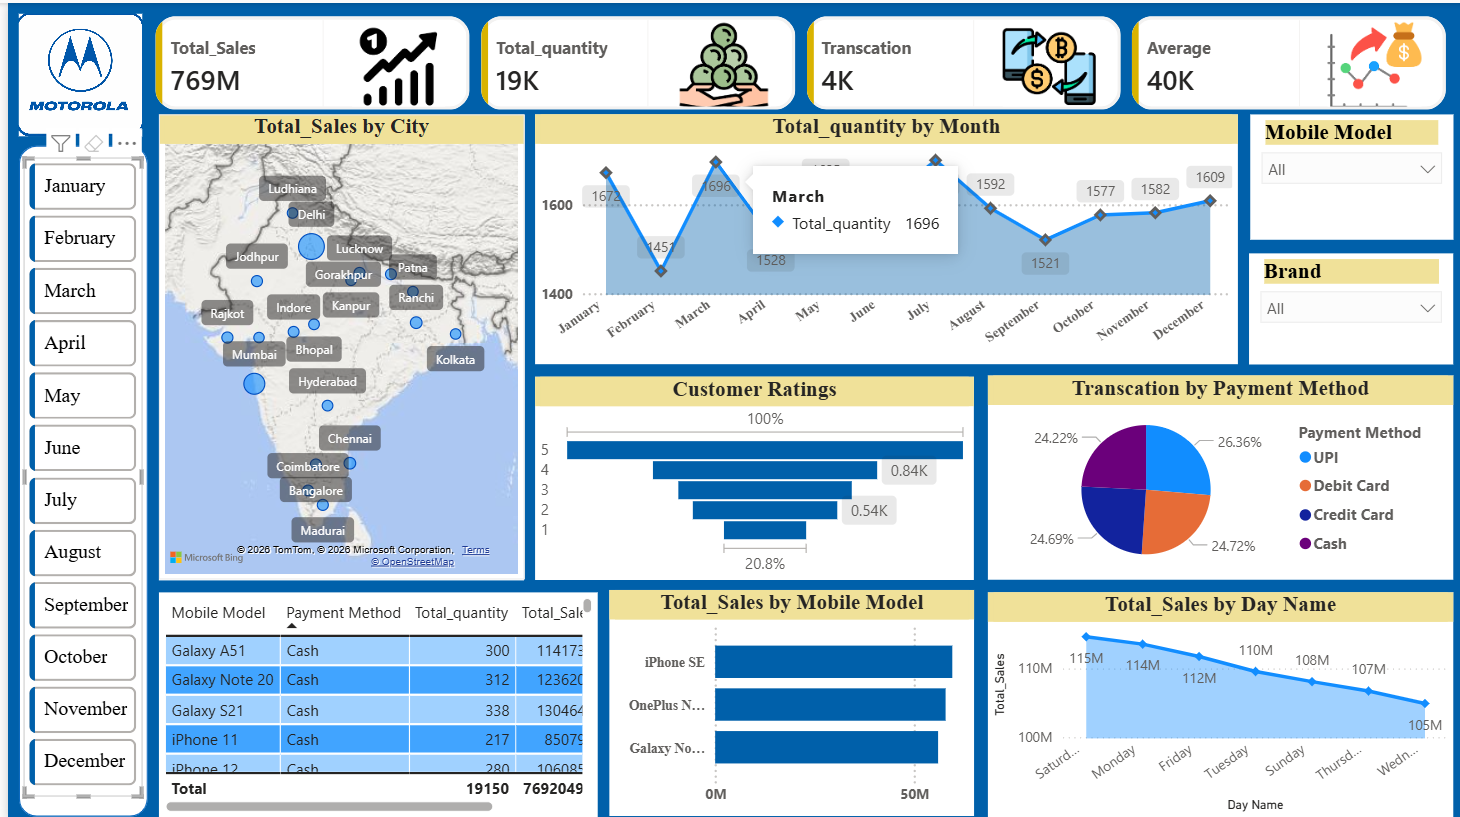

Layout of this report page (visuals, bound fields, positions):
{"tool":"powerbi","page":{"name":"Page 1","canvas":[1280,720],"ordinal":0},"visuals":[{"type":"shape","box":[9.7,125.5,113.4,589.9],"z":0},{"type":"advancedSlicerVisual","fields":{"Values":["sales_data.Date.Variation.Date Hierarchy.Month"]},"box":[13.3,136.3,105,562.2],"z":1000},{"type":"image","box":[9.7,9.7,108.6,107.4],"z":2000},{"type":"cardVisual","fields":{"Data":["sales_data.Total_Sales","sales_data.Total_quantity","sales_data.Transcation","sales_data.Average"]},"box":[118.2,0,1161.8,106.2],"z":3000},{"type":"map","fields":{"Category":["sales_data.City"],"Size":["sales_data.Total_Sales"]},"box":[132.7,97.7,320.9,409],"z":4000},{"type":"lineChart","fields":{"Y":["sales_data.Total_quantity"],"Category":["sales_data.Date.Variation.Date Hierarchy.Month","sales_data.Date.Variation.Date Hierarchy.Day"]},"box":[463.3,97.7,617.7,219.6],"z":5000},{"type":"barChart","fields":{"Category":["sales_data.Mobile Model"],"Y":["sales_data.Total_Sales"]},"box":[528.4,516.4,320.9,199.1],"z":6000},{"type":"pieChart","fields":{"Category":["sales_data.Payment Method"],"Y":["sales_data.Transcation"]},"box":[861.4,326.9,409,179.8],"z":7000},{"type":"funnel","title":" Customer Ratings","fields":{"Category":["sales_data.Customer Ratings"],"Y":["CountNonNull(sales_data.Customer Ratings)"]},"box":[463.3,328.2,386.1,178.6],"z":8000},{"type":"areaChart","fields":{"Category":["sales_data.Day Name"],"Y":["sales_data.Total_Sales"]},"box":[861.4,517.6,409,197.9],"z":9000},{"type":"tableEx","fields":{"Values":["sales_data.Mobile Model","sales_data.Payment Method","sales_data.Total_quantity","sales_data.Total_Sales","sales_data.Transcation"]},"box":[132.7,517.6,386.1,197.9],"z":10000},{"type":"slicer","fields":{"Values":["sales_data.Mobile Model"]},"box":[1091.8,97.7,178.6,109.8],"z":11000},{"type":"slicer","fields":{"Values":["sales_data.Brand"]},"box":[1090.6,219.6,179.8,97.7],"z":12000}]}

Visuals, with their boxes in screenshot pixels (x1, y1, x2, y2), scaled from the page's 1280x720 canvas onto the 1460x817 screenshot:
shape: bbox=(11, 142, 140, 812)
advancedSlicerVisual - sales_data.Date.Variation.Date Hierarchy.Month: bbox=(15, 155, 135, 793)
image: bbox=(11, 11, 135, 133)
cardVisual - sales_data.Total_Sales x sales_data.Total_quantity: bbox=(135, 0, 1459, 121)
map - sales_data.City x sales_data.Total_Sales: bbox=(151, 111, 517, 575)
lineChart - sales_data.Total_quantity x sales_data.Date.Variation.Date Hierarchy.Month: bbox=(528, 111, 1233, 360)
barChart - sales_data.Mobile Model x sales_data.Total_Sales: bbox=(603, 586, 969, 812)
pieChart - sales_data.Payment Method x sales_data.Transcation: bbox=(983, 371, 1449, 575)
" Customer Ratings" funnel: bbox=(528, 372, 969, 575)
areaChart - sales_data.Day Name x sales_data.Total_Sales: bbox=(983, 587, 1449, 812)
tableEx - sales_data.Mobile Model x sales_data.Payment Method: bbox=(151, 587, 592, 812)
slicer - sales_data.Mobile Model: bbox=(1245, 111, 1449, 235)
slicer - sales_data.Brand: bbox=(1244, 249, 1449, 360)
